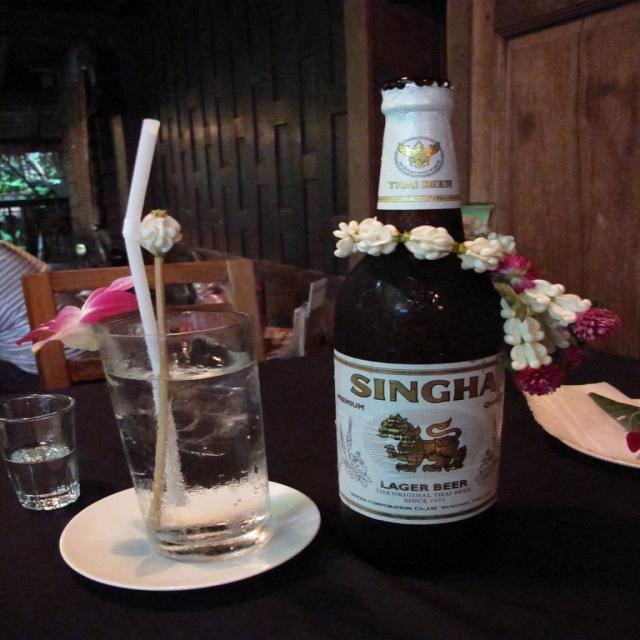singha: (337, 357, 508, 518)
